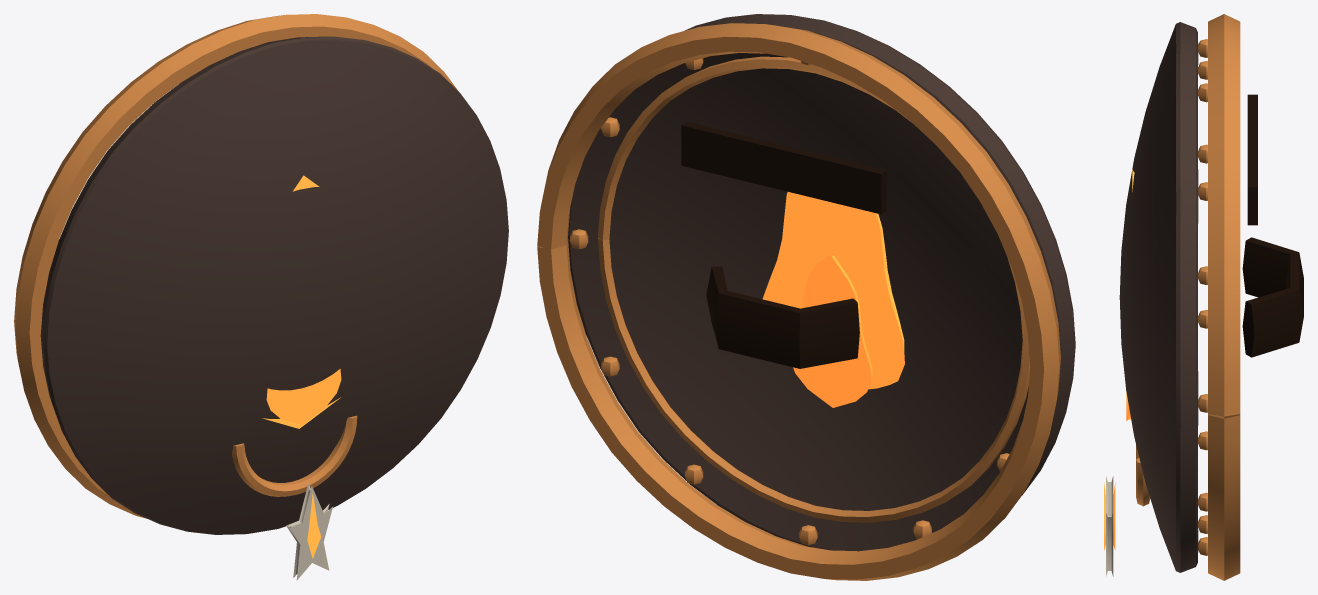
Rendered from asc_ashborn_archmage_shield.glb.
3 views of the same model, side by side, from view 1: azimuth 30°, elevation 25°; view 2: azimuth 150°, elevation 25°; view 3: azimuth 270°, elevation 25° (orthographic). The views are drawn at different scales.
Parts seen in each view (by area): view 1: asc_ashborn_archmage_shield; view 2: asc_ashborn_archmage_shield; view 3: asc_ashborn_archmage_shield.
Part boxes in pixels (x1,y1,x2,y2): asc_ashborn_archmage_shield: (14, 14, 508, 580); asc_ashborn_archmage_shield: (537, 14, 1075, 580); asc_ashborn_archmage_shield: (1104, 14, 1303, 580).
Size of the model in its own units: 0.6759 by 0.6957 by 0.2373.
